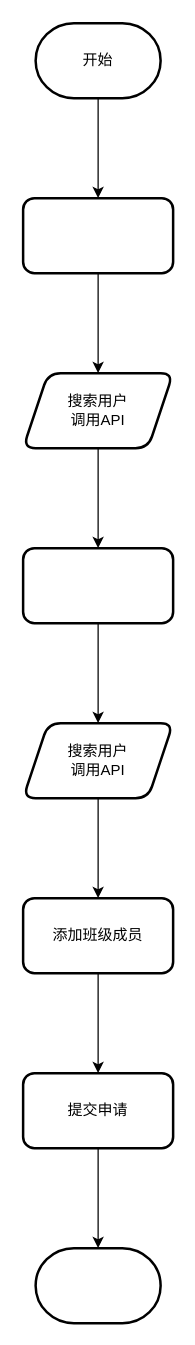
This 195x1345 diagram has some shape labels left out. The shapes that lost their labels are listed below. From the top down, each one's centre as x and y in pixels, then its label:
[97,235]: 设置班级名称
[97,585]: 设置管理者
[97,1285]: 获取创建结果
